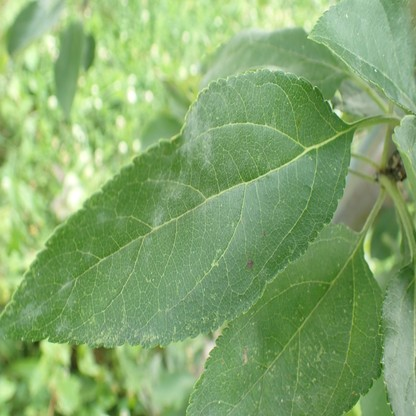powdery_mildew: (188, 230, 385, 416), (327, 0, 416, 109), (152, 103, 211, 228), (381, 260, 412, 416), (58, 280, 76, 334), (21, 301, 40, 324), (83, 245, 93, 261), (96, 212, 108, 222)
